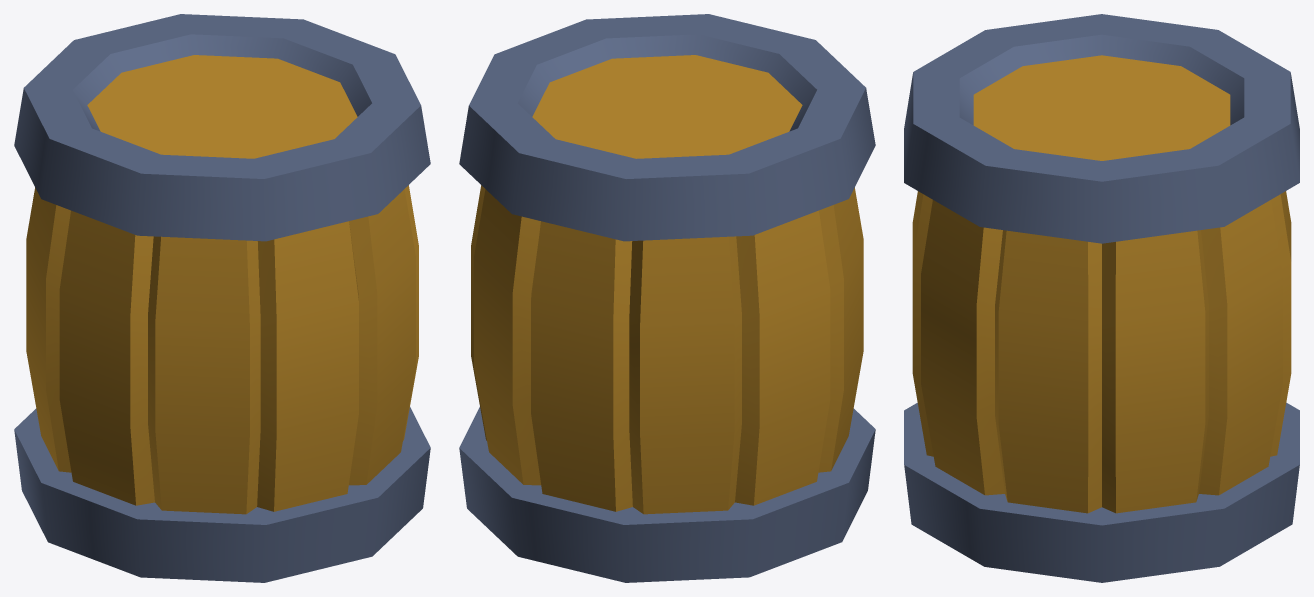
File: bonus.fbx
3 views of the same model, side by side, from view 1: azimuth 30°, elevation 25°; view 2: azimuth 150°, elevation 25°; view 3: azimuth 270°, elevation 25° (orthographic).
Visible parts, largest first — view 1: bonus; view 2: bonus; view 3: bonus.
Boxes of the visible parts, bbox=[...] form: bonus: bbox=[14, 14, 430, 582]; bonus: bbox=[459, 14, 875, 582]; bonus: bbox=[904, 14, 1299, 582].
Size of the model in its own units: 119 by 126 by 113.
